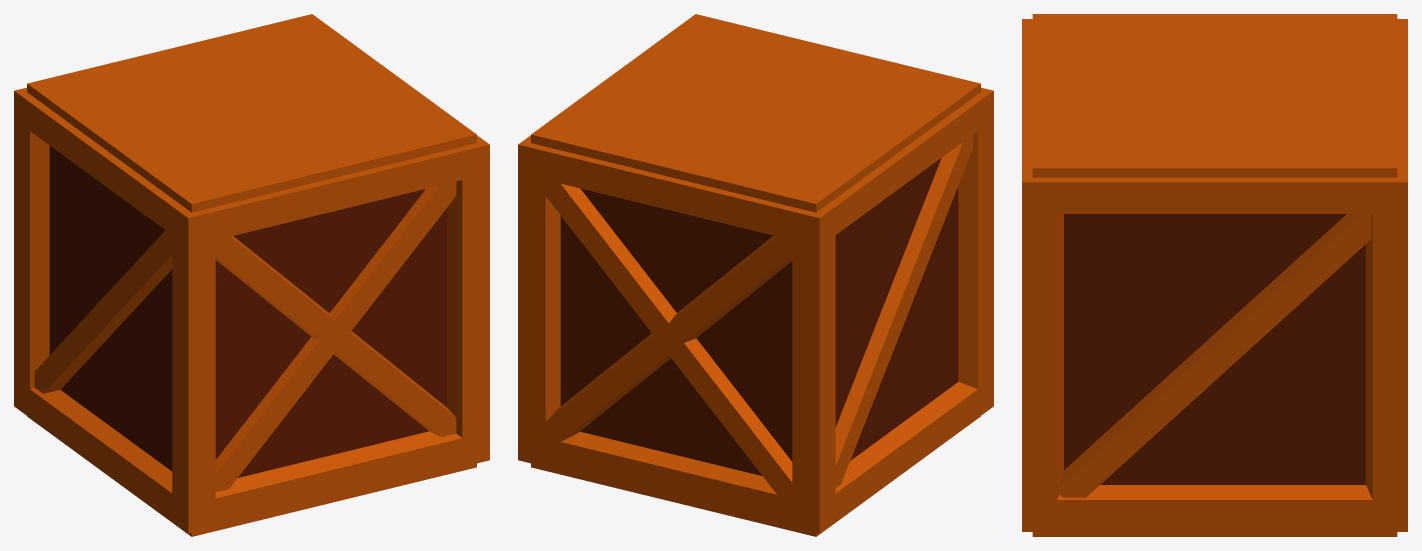
3 views of the same model, side by side, from view 1: azimuth 30°, elevation 25°; view 2: azimuth 150°, elevation 25°; view 3: azimuth 270°, elevation 25° (orthographic). The views are drawn at different scales.
Parts seen in each view (by area): view 1: Box009_Mesh; view 2: Box009_Mesh; view 3: Box009_Mesh.
Part boxes in pixels (x1,y1,x2,y2): Box009_Mesh: [14, 14, 489, 536]; Box009_Mesh: [518, 14, 993, 536]; Box009_Mesh: [1022, 14, 1407, 536].
Bounding box in the file's own units: 0.1605 × 0.1692 × 0.1605.
